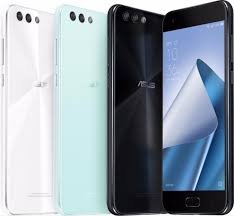asus: (159, 1, 234, 214), (106, 1, 163, 216), (54, 1, 111, 216), (1, 1, 57, 216)
